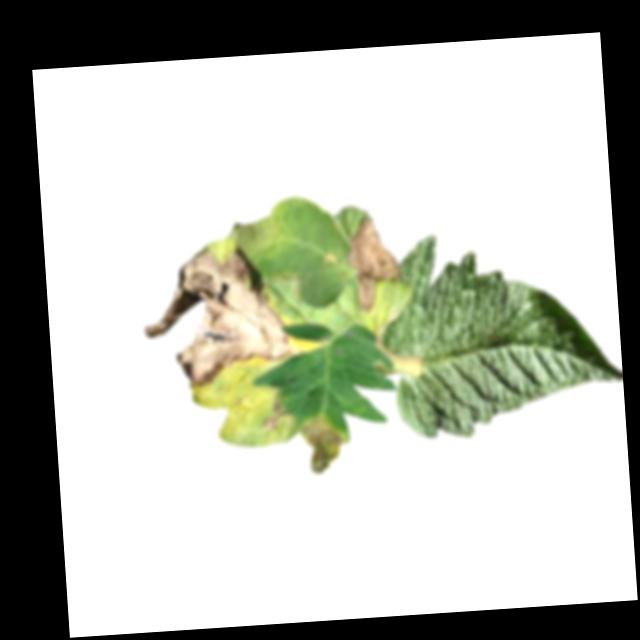Late_blight: (138, 243, 300, 391), (344, 213, 403, 316), (298, 410, 352, 474), (232, 217, 272, 258), (258, 388, 291, 432), (374, 358, 394, 376)
healthy: (377, 220, 625, 443)
